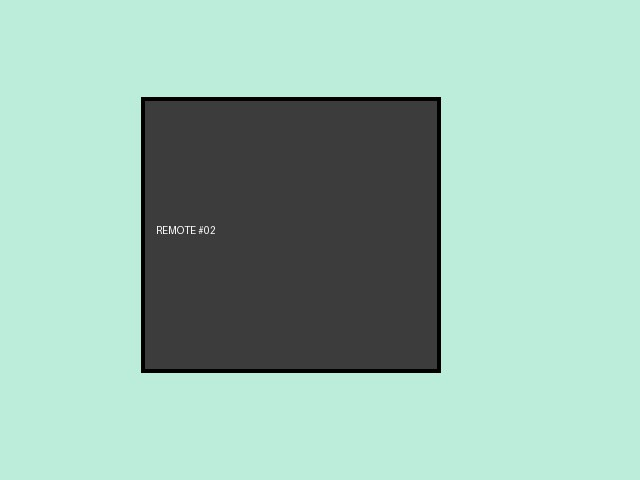remote: (141, 97, 440, 372)
